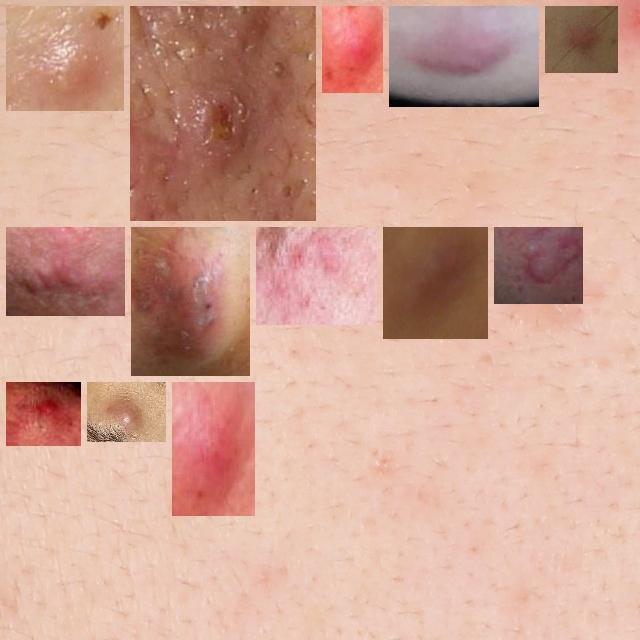nodule: (138, 14, 308, 213), (139, 235, 242, 368), (397, 14, 531, 99), (14, 14, 116, 103), (264, 235, 369, 317), (391, 235, 480, 331), (180, 390, 247, 508), (14, 235, 117, 308), (502, 235, 575, 296), (330, 14, 375, 85), (553, 14, 610, 65), (14, 390, 73, 438), (95, 390, 158, 434)
